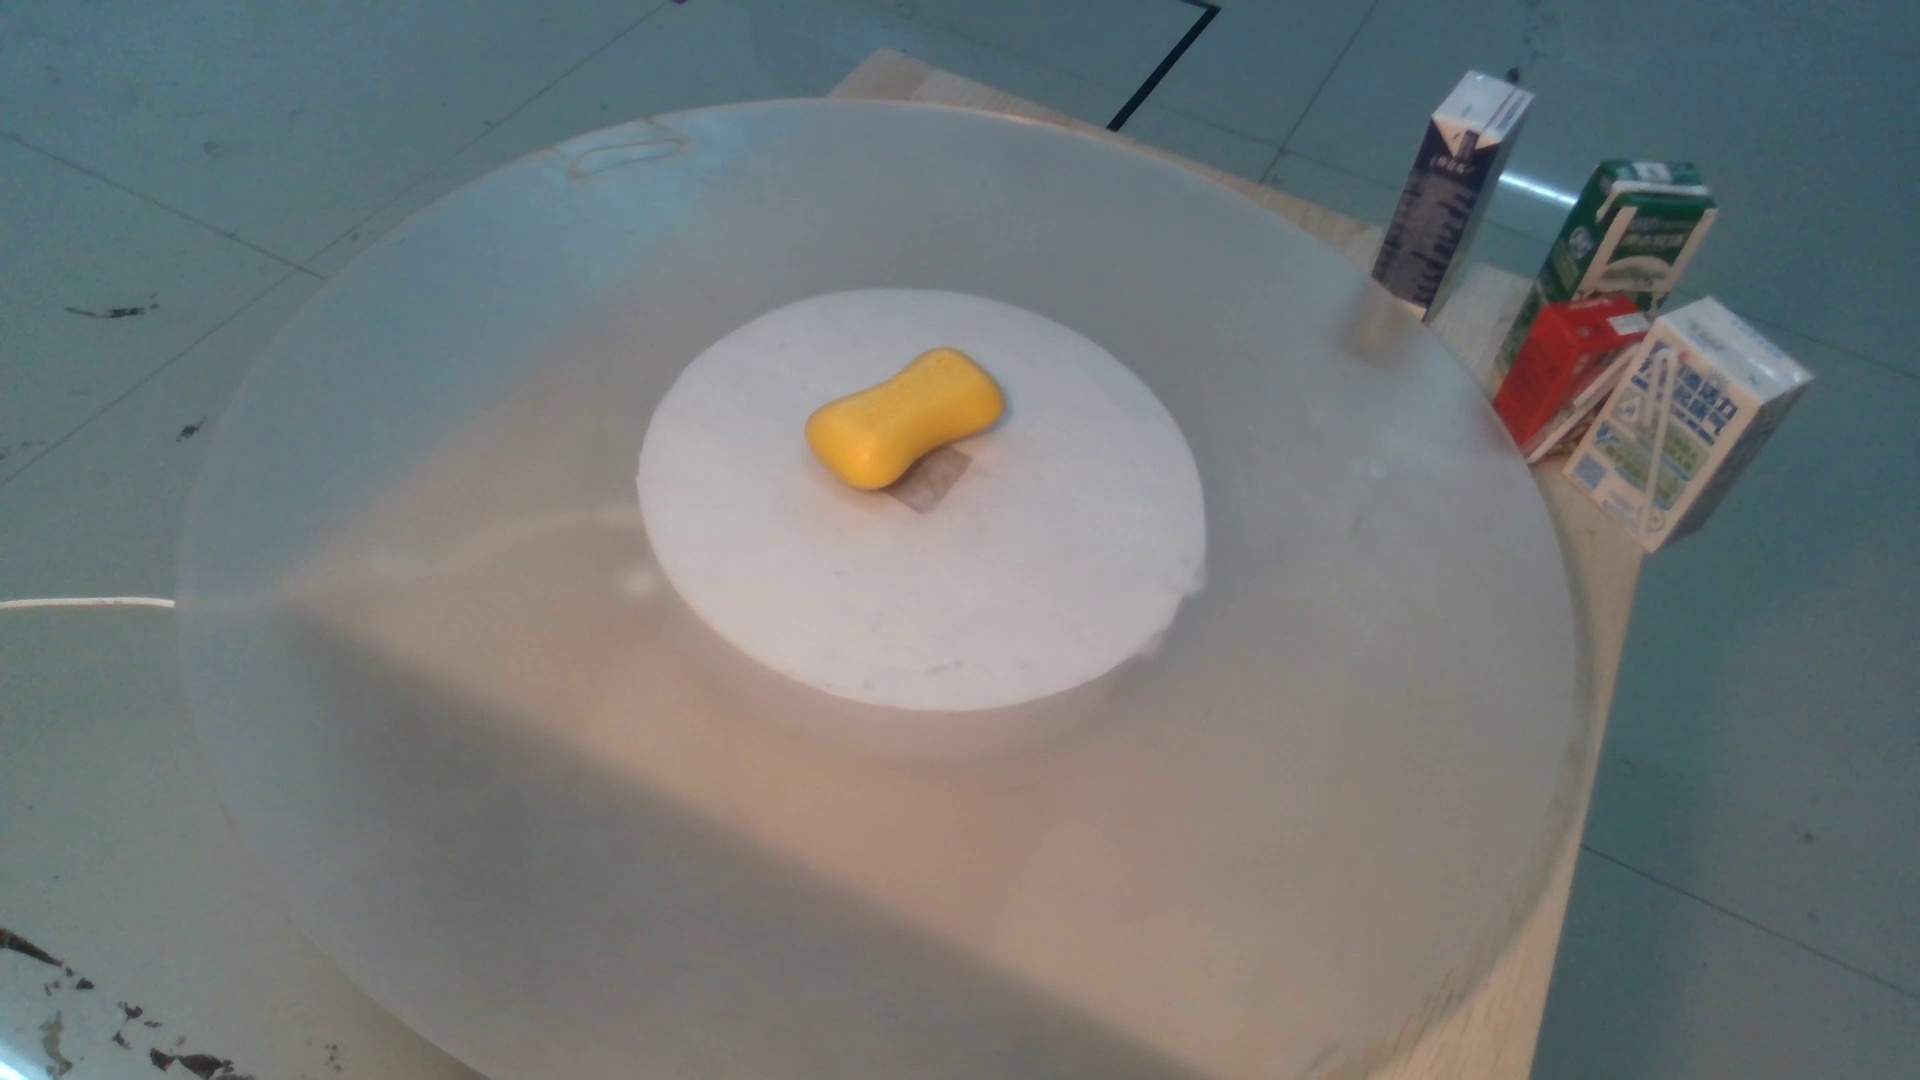CA003_1: (802, 345, 1034, 498)
